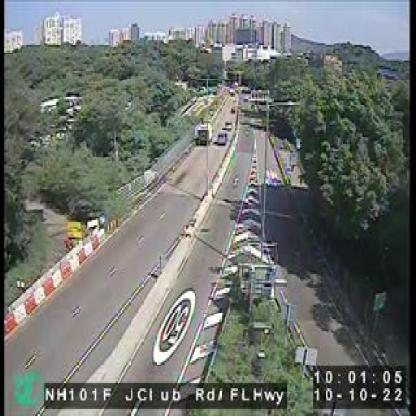Car: (194, 125, 211, 146), (215, 128, 228, 144)
